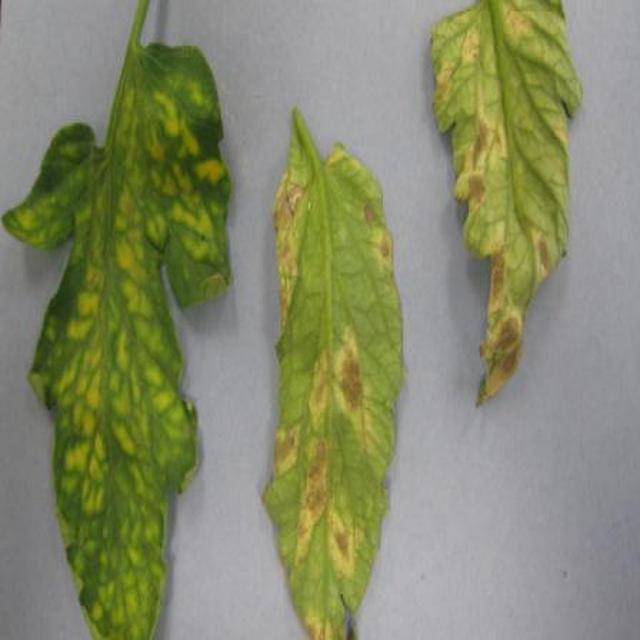Leaf Mold: (212, 290, 640, 640)
